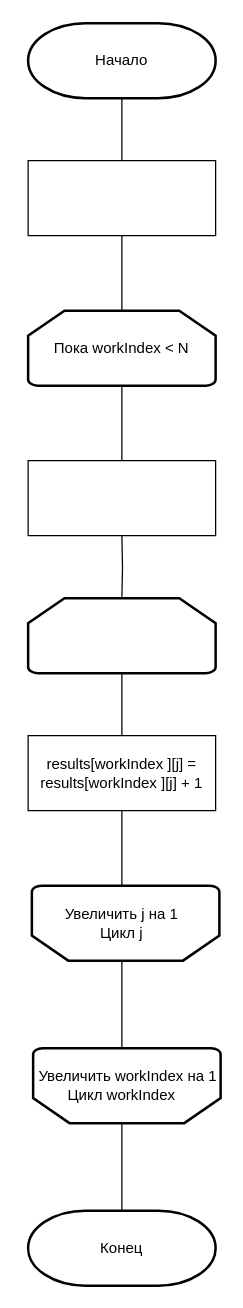
This 243x1308 diagram has some shape labels left out. Each missing label, with the centre of its shape:
"length = strings[workIndex ].length()" belongs at [121,497].
"size: N, workIndex array: strings[N] array: results[N][alphPow]" belongs at [121,197].
"Цикл j от 0 до length" belongs at [121,635].
